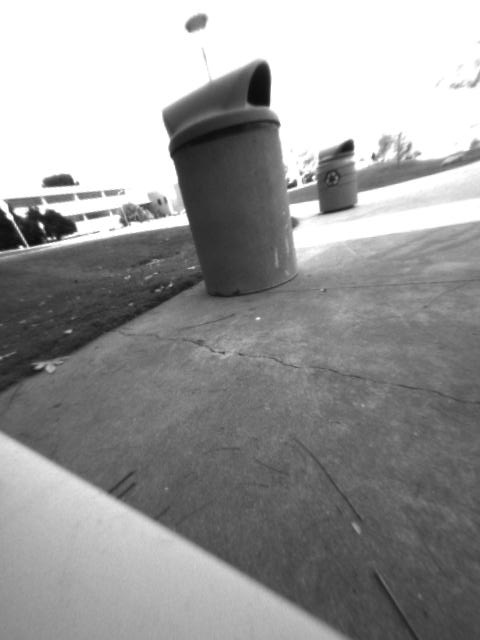trashcan: (153, 55, 308, 296)
